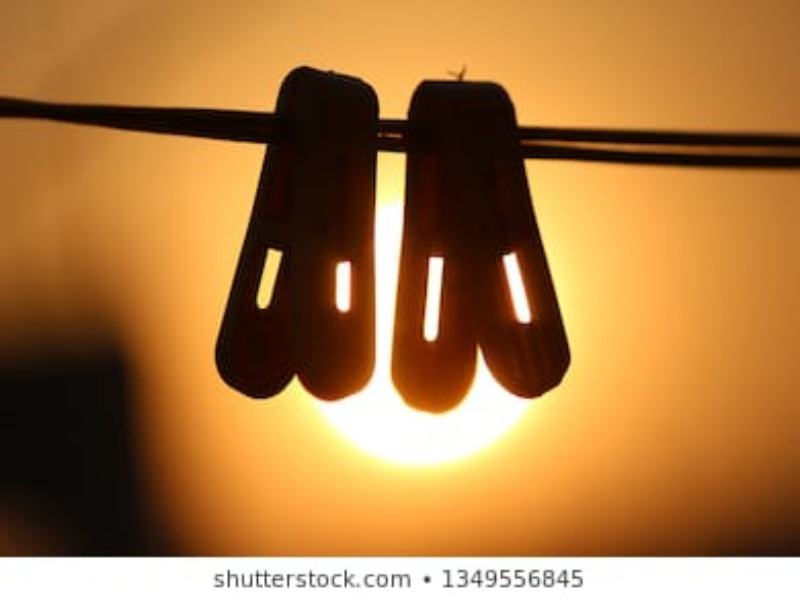plastic-peg: (393, 72, 573, 414), (215, 66, 387, 401)
